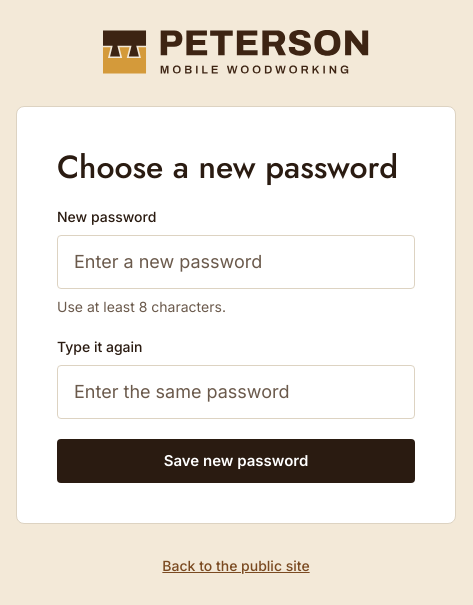
Test: ResetPasswordPage › asks for both fields and saves nothing when they are empty
Click the button "Save new password".
click(236, 461)  # box x1=57 y1=439 x2=415 y2=483
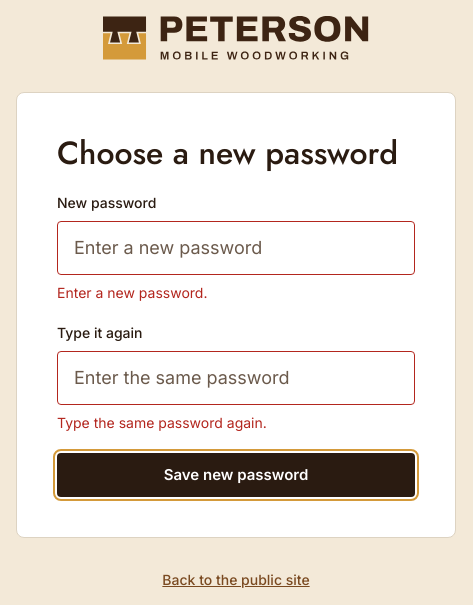
Expected: the text "Enter a new password." is shown, x1=57 y1=284 x2=208 y2=301
Expected: the text "Type the same password again." is shown, x1=57 y1=414 x2=267 y2=431
